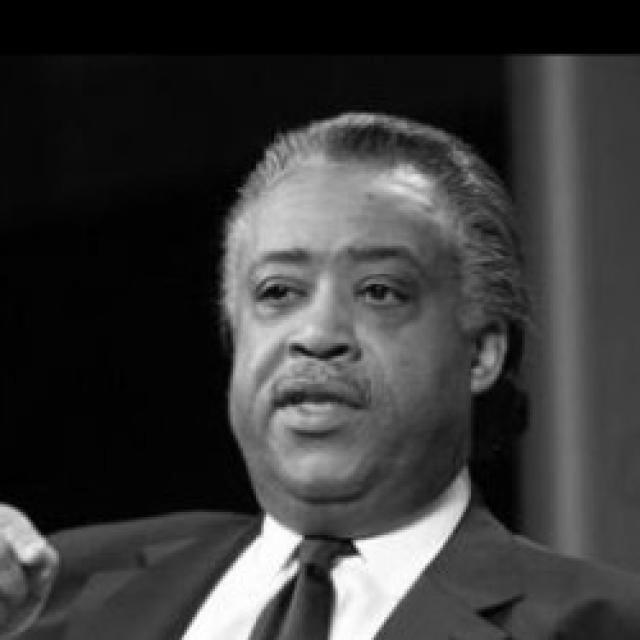real: (228, 158, 464, 496), (236, 257, 435, 331)
